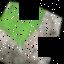Morning glory: (0, 0, 57, 59)
